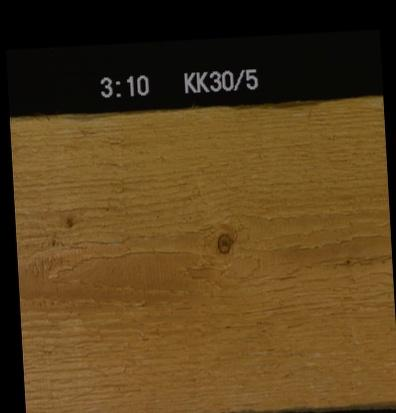dry_knot: (213, 229, 232, 255)
small_knot: (61, 212, 75, 227)
wave: (213, 100, 335, 110), (15, 112, 101, 124)
